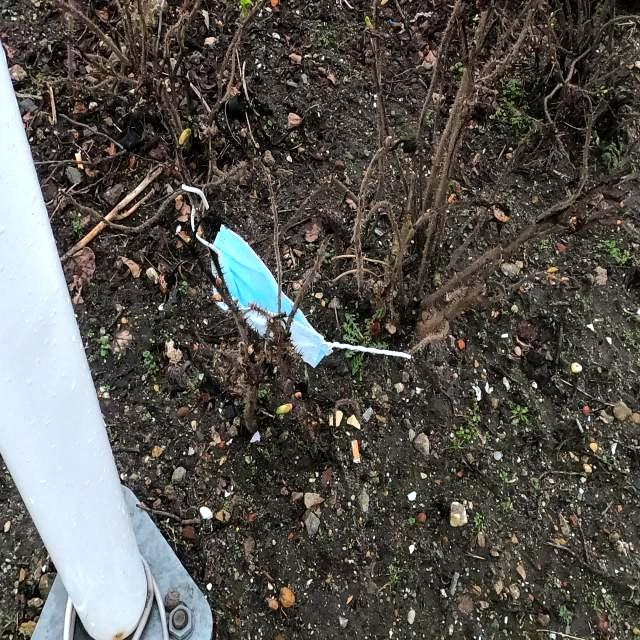Mask: (178, 180, 414, 370)
